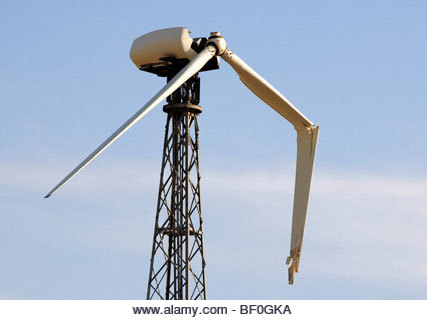faulty: (43, 23, 326, 285)
